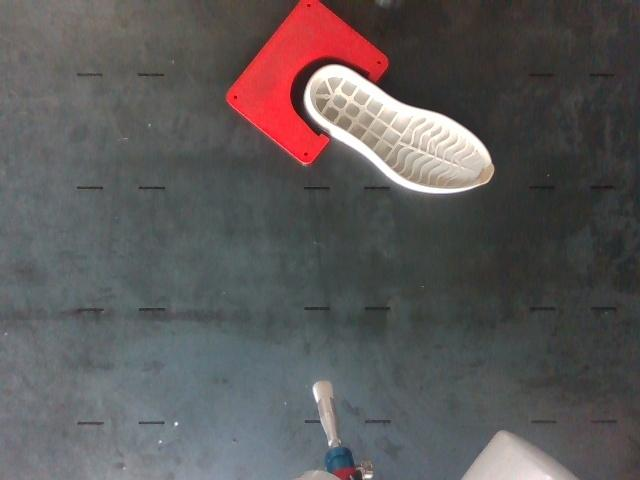shoes: (310, 66, 493, 189)
